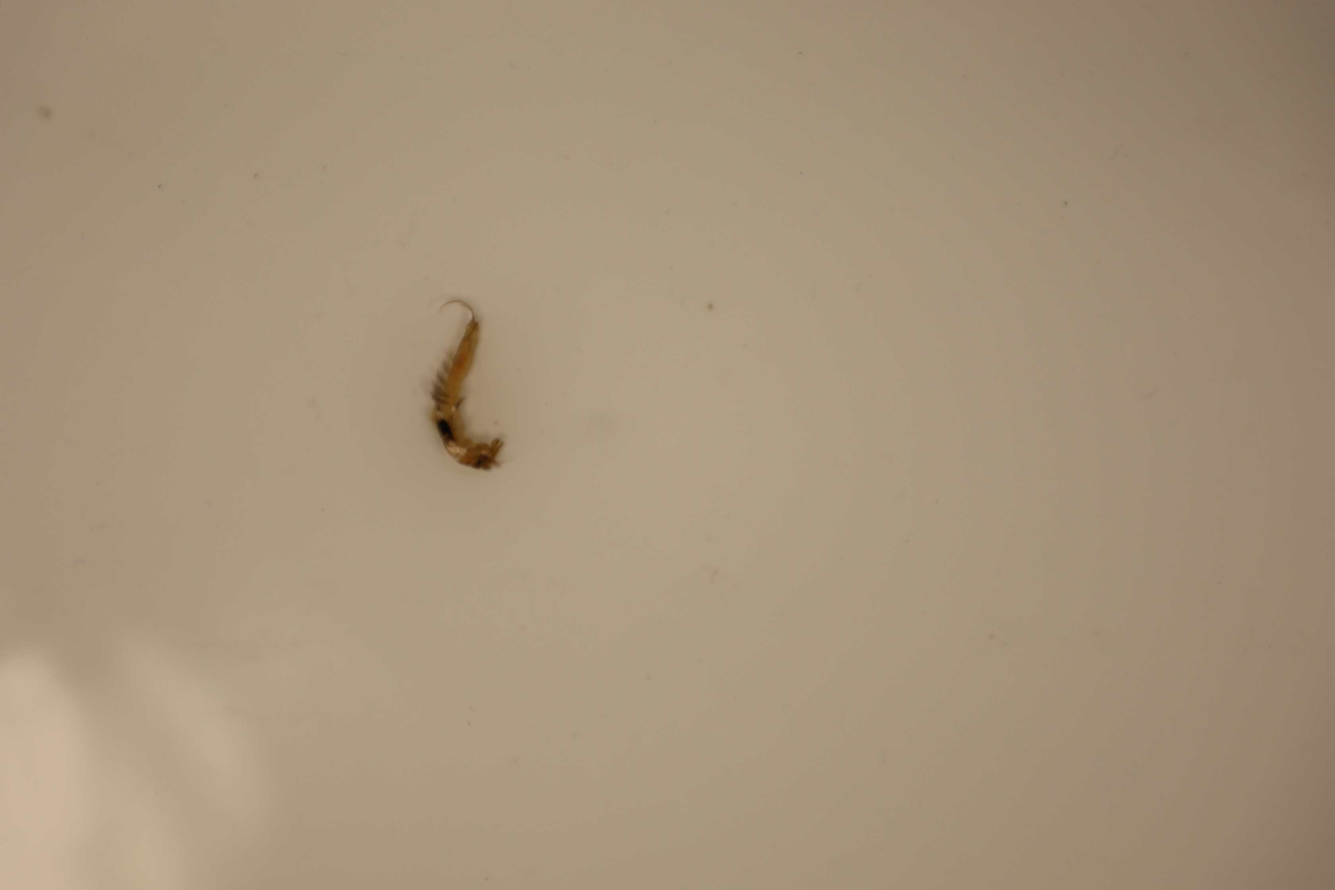Other: (419, 294, 511, 475)
